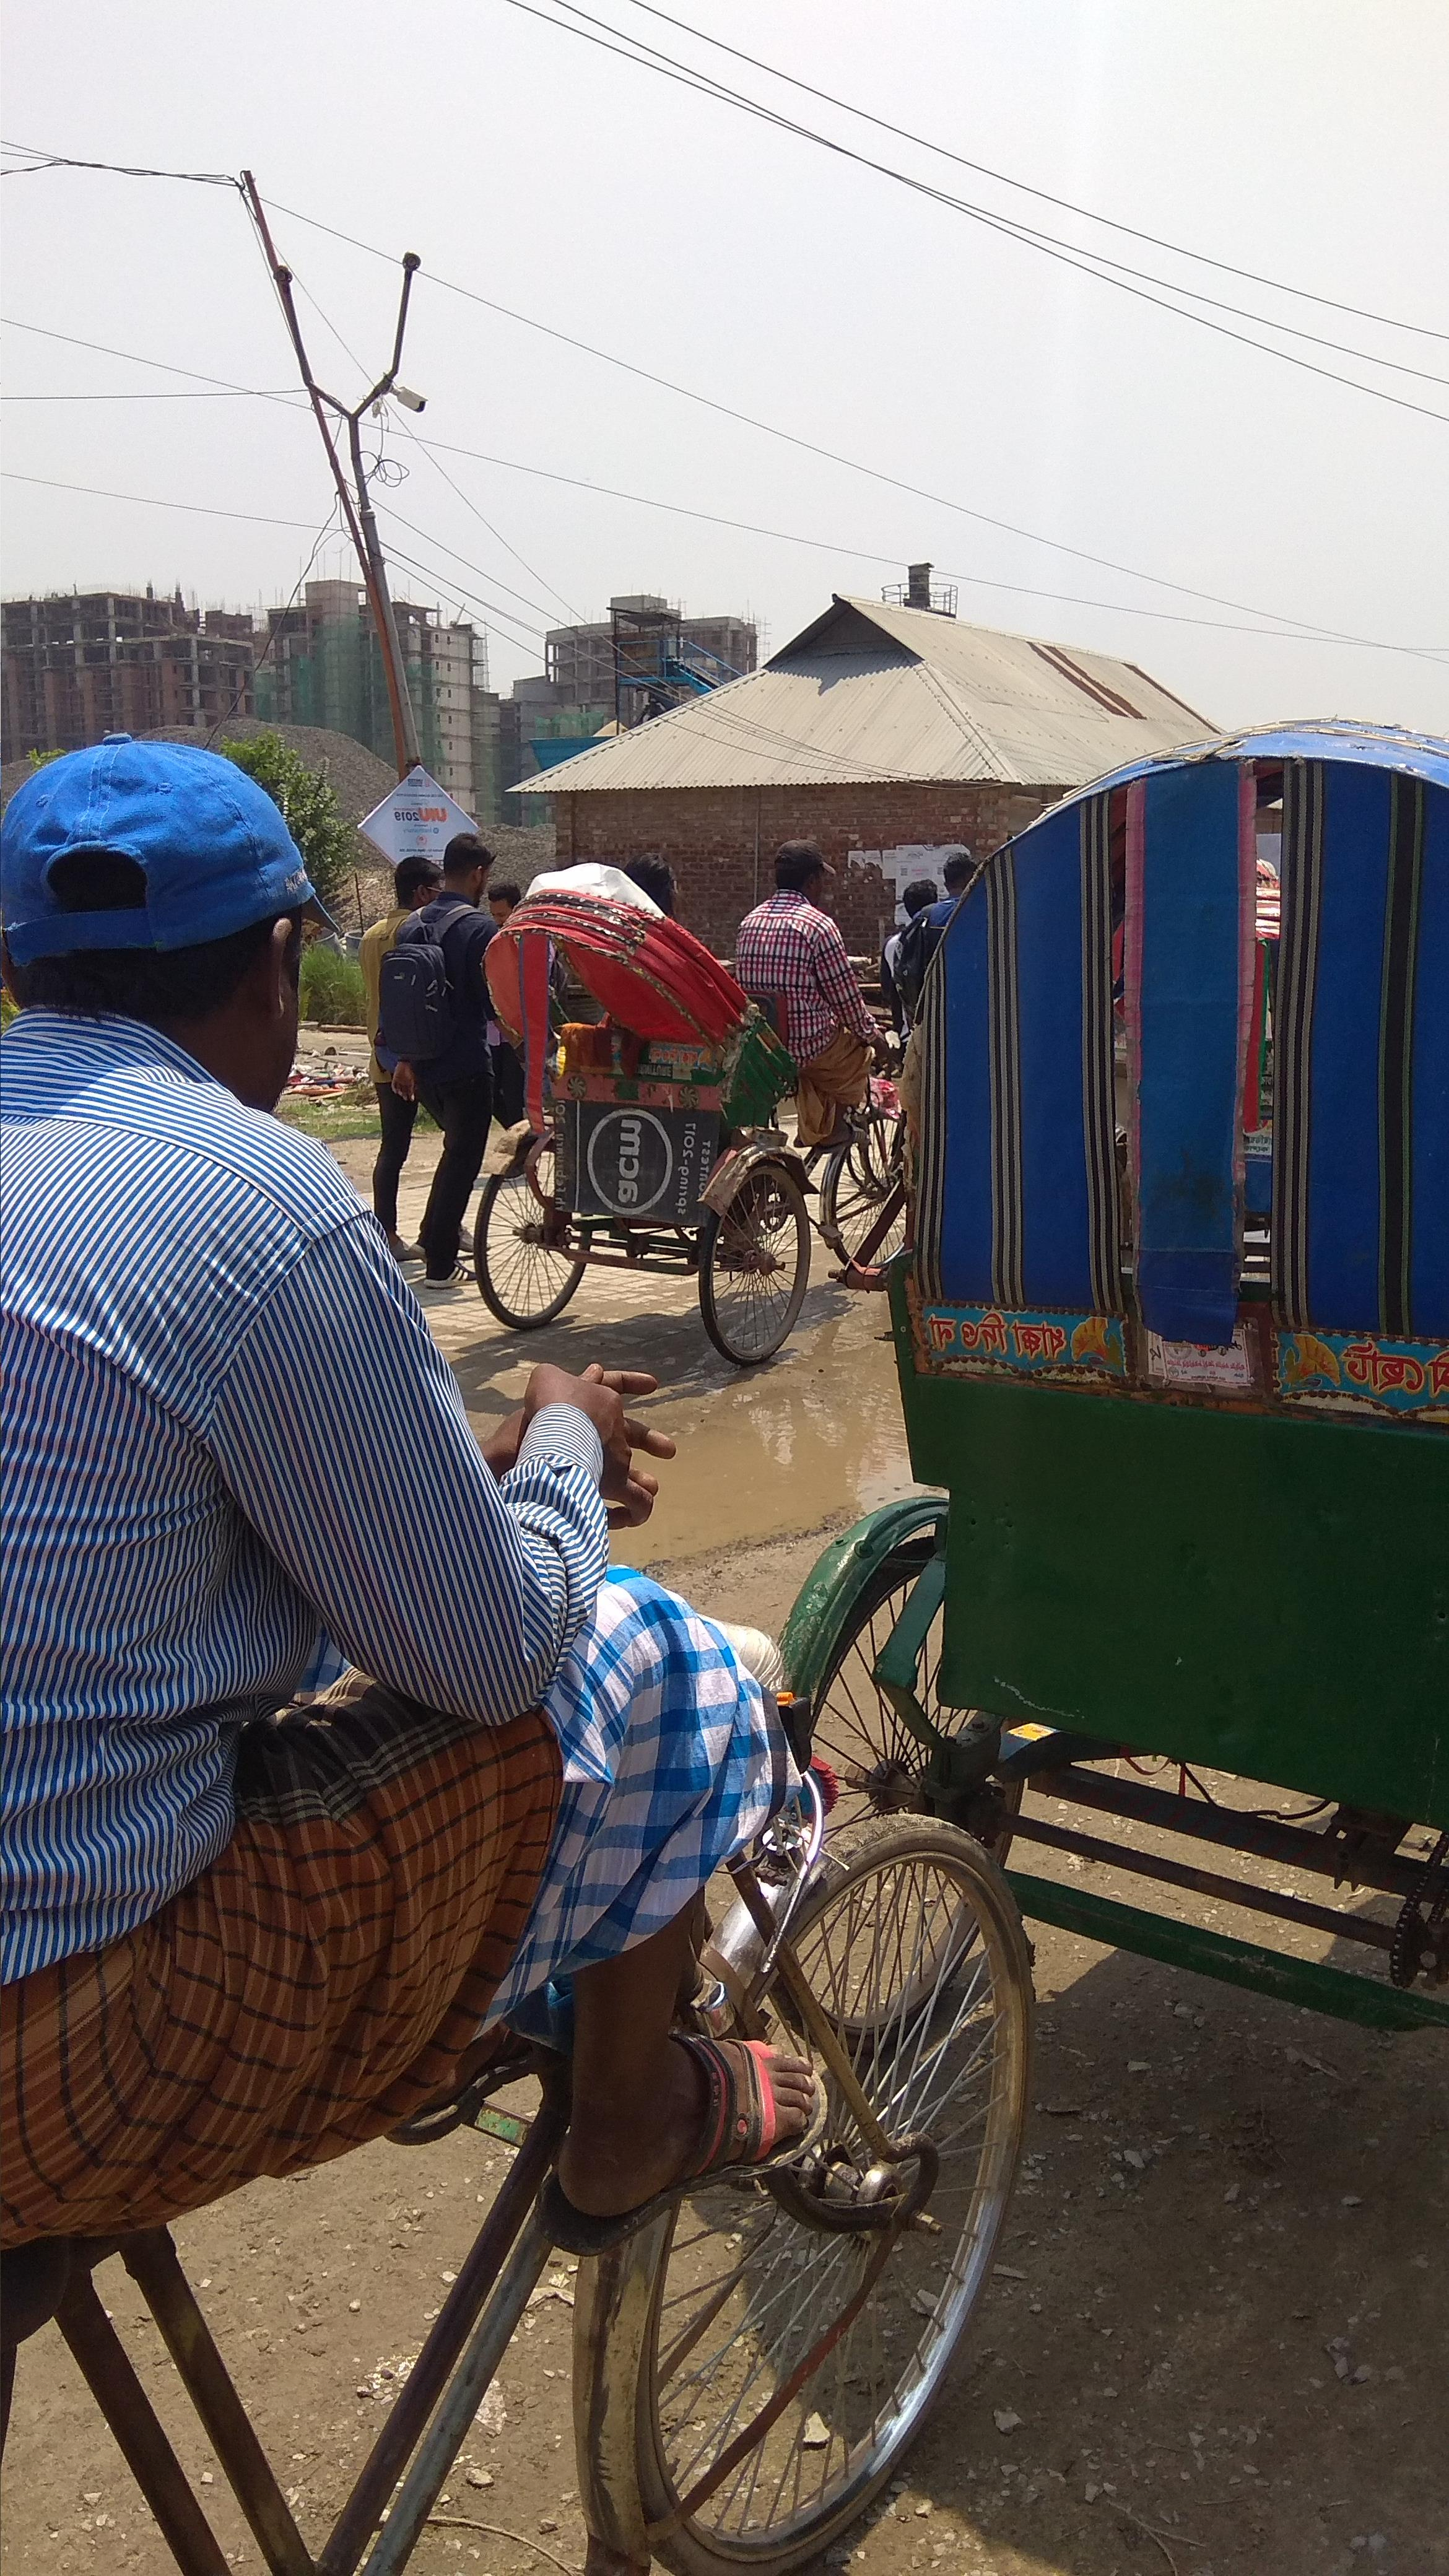Rickshaw: (872, 648, 1444, 2118), (474, 839, 895, 1422)
